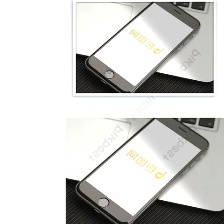phone: (70, 112, 211, 224), (82, 0, 202, 95)
